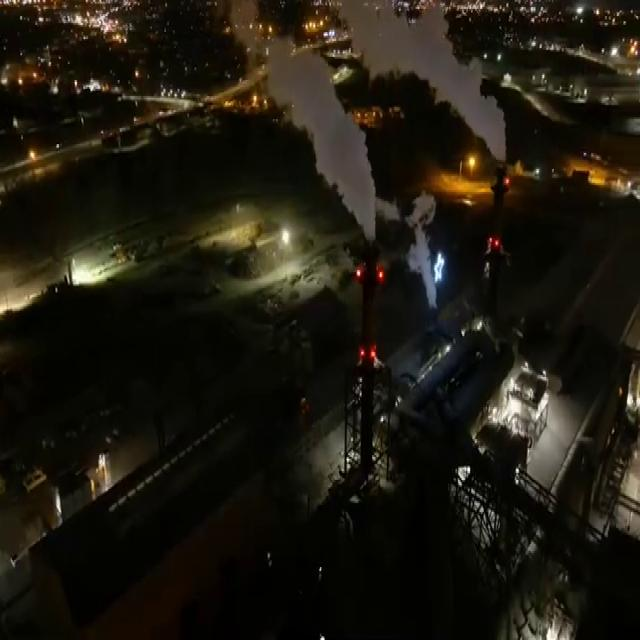smoke: (349, 0, 506, 156), (265, 41, 377, 245), (401, 196, 481, 324)
